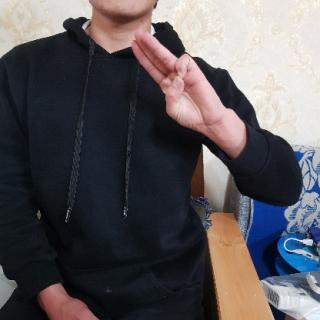THA: (129, 28, 225, 138)
